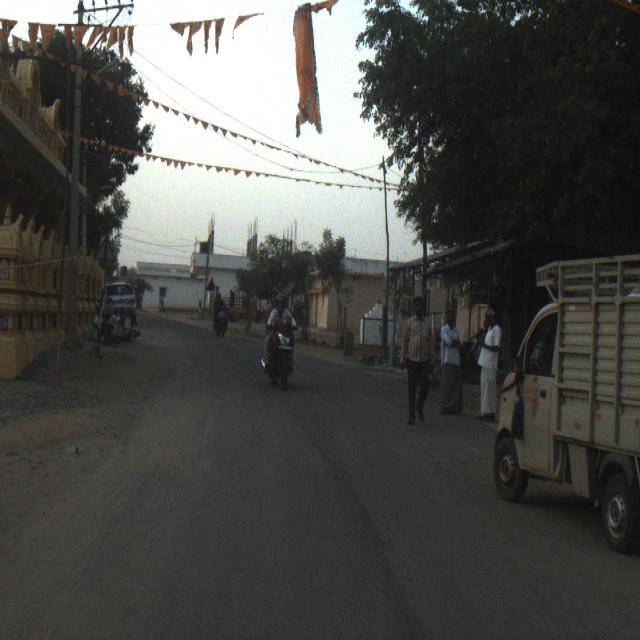high: (392, 288, 438, 428)
